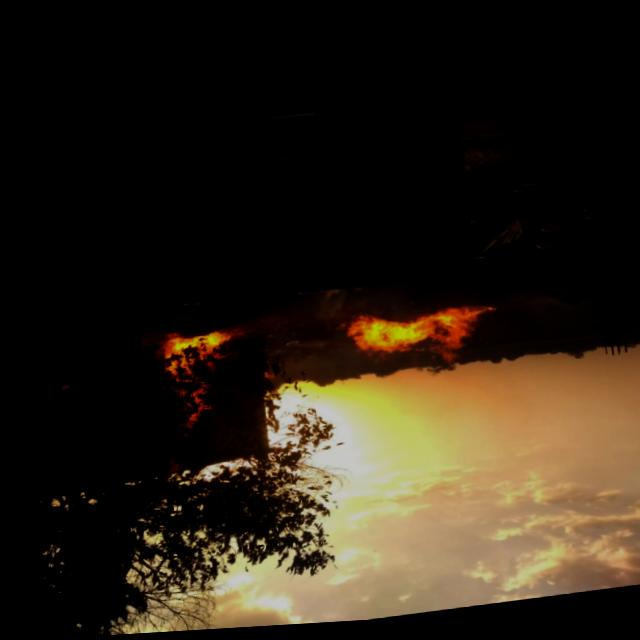helmet: (334, 302, 500, 380), (148, 327, 242, 437)
